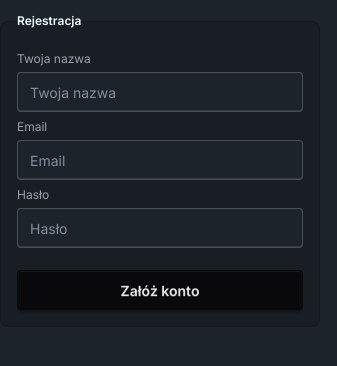
Test: SignUpForm component › shows an error under the email field when the email is already taken
Type "Jan Kowalski" into the field labelled "Twoja nazwa".
click(160, 92); type("Jan Kowalski")  # box [17,72,303,112]
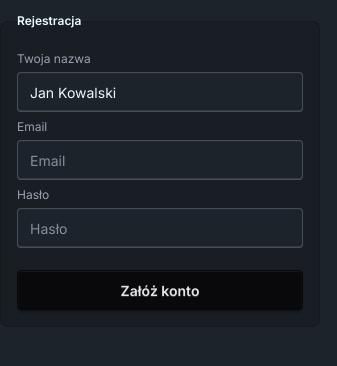
Type "jan@example.com" into the field labelled "Email".
click(160, 160); type("jan@example.com")  # box [17,140,303,180]
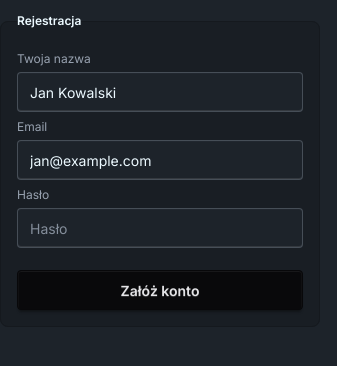
Type "supersecret" into the password field labelled "Hasło".
click(160, 228); type("supersecret")  # box [17,208,303,248]
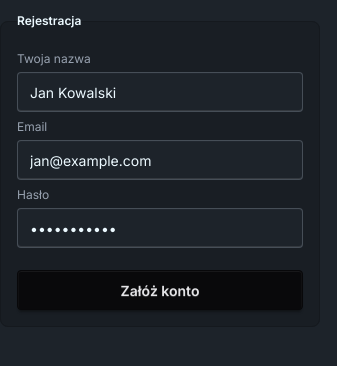
Click the button "Załóż konto".
click(160, 290)  # box [17,270,303,310]
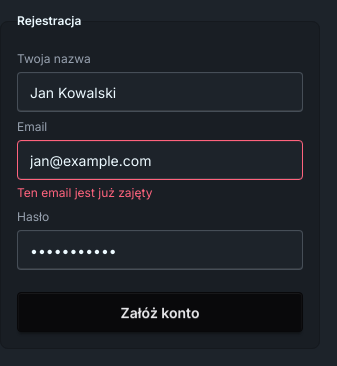
Now the text "Ten email jest już zajęty" is shown, box [17,185,152,200]
